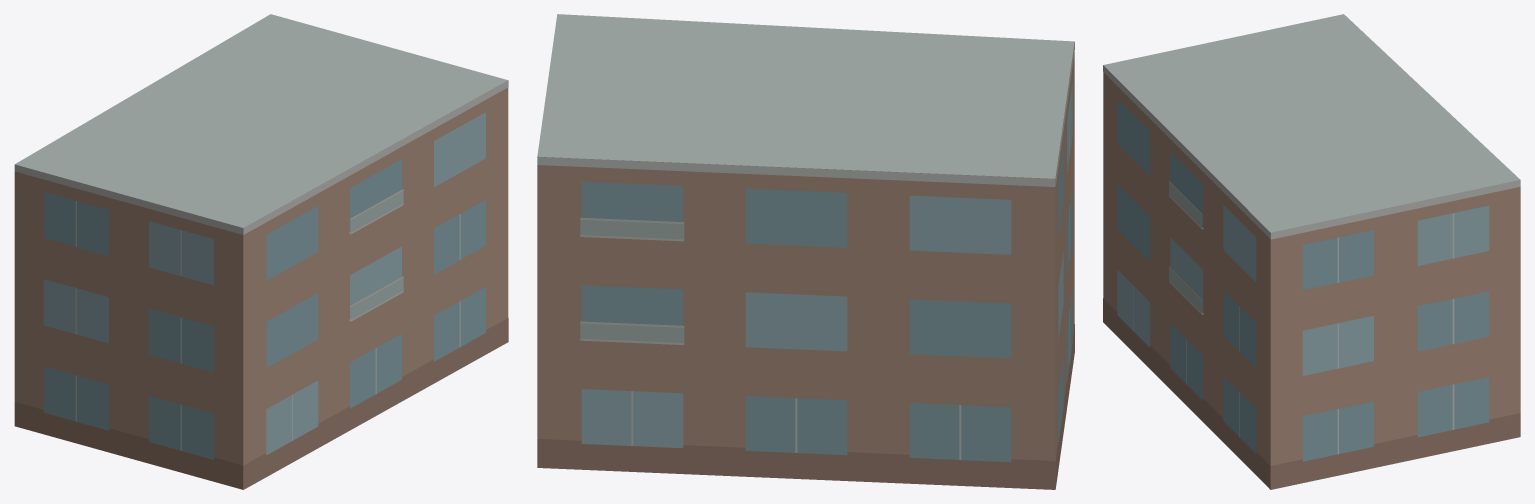
The model's file is survey-upis-32940419.glb.
3 views of the same model, side by side, from view 1: azimuth 30°, elevation 25°; view 2: azimuth 150°, elevation 25°; view 3: azimuth 270°, elevation 25° (orthographic). The views are drawn at different scales.
Parts seen in each view (by area): view 1: survey-upis-32940419.tmp; view 2: survey-upis-32940419.tmp; view 3: survey-upis-32940419.tmp.
Part boxes in pixels (left/top/right/bottom): survey-upis-32940419.tmp: left=14, top=14, right=508, bottom=489; survey-upis-32940419.tmp: left=537, top=14, right=1074, bottom=489; survey-upis-32940419.tmp: left=1103, top=14, right=1520, bottom=489.
Size of the model in its own units: 16.71 by 9.15 by 13.47.
